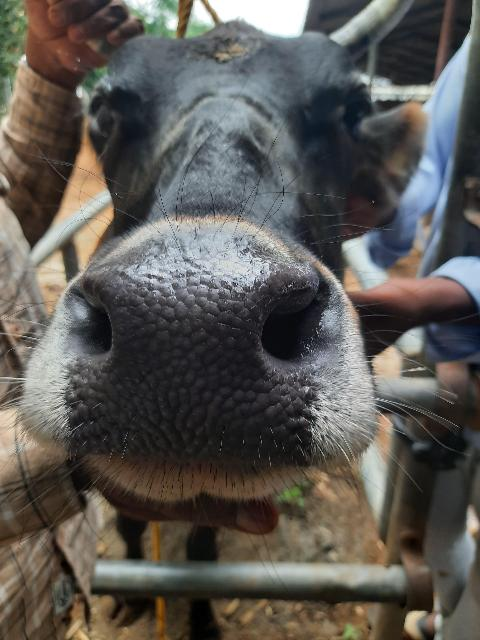Muzzle: (106, 247, 256, 459)
